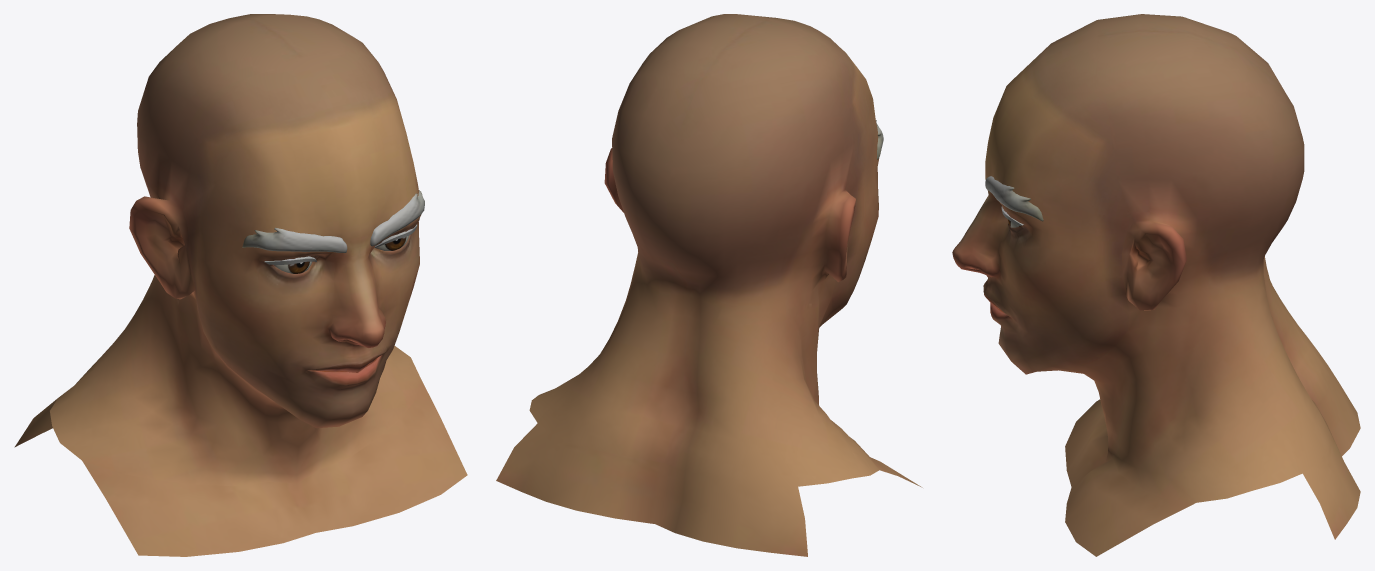
File: Male_Head.glb
The picture shows the model from 3 angles, left to right: view 1: azimuth 30°, elevation 25°; view 2: azimuth 150°, elevation 25°; view 3: azimuth 270°, elevation 25°; orthographic projection. The views are drawn at different scales.
Parts seen in each view (by area): view 1: SuperHero_Male, Eyebrows, Eyes; view 2: SuperHero_Male; view 3: SuperHero_Male, Eyebrows.
Boxes of the visible parts, x1,y1,x2,y2 form: SuperHero_Male: (14, 14, 467, 556); Eyebrows: (242, 190, 424, 264); Eyes: (273, 236, 408, 273); SuperHero_Male: (496, 14, 922, 556); SuperHero_Male: (952, 14, 1360, 556); Eyebrows: (985, 176, 1043, 225).
Size of the model in its own units: 0.2463 by 0.316 by 0.2567.
3 materials, 3 textured.
